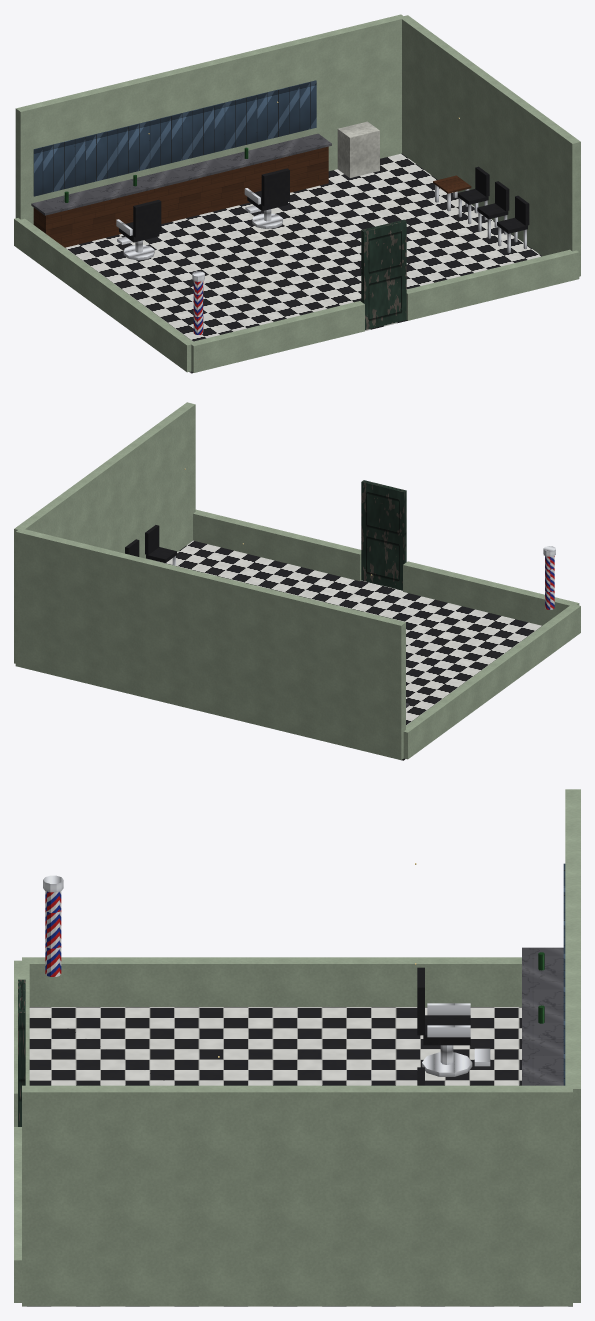
Rendered from Barber.fbx.
3 views of the same model, one above another, from view 1: azimuth 30°, elevation 25°; view 2: azimuth 150°, elevation 25°; view 3: azimuth 270°, elevation 25° (orthographic). The views are drawn at different scales.
Visible parts, largest first — view 1: Barber_Floor, Barber_WallN, Barber_WallE, Barber_Mirror, Barber_Counter, Barber_WallS, Barber_WallW, Barber_Door, Barber_Sink, Barber_Chair0, Barber_Chair1, Barber_WaitChair0 (+4 smaller); view 2: Barber_WallN, Barber_Floor, Barber_WallE, Barber_WallS, Barber_WallW, Barber_Door, Barber_WaitChair0, Barber_Pole; view 3: Barber_WallE, Barber_Floor, Barber_WallW, Barber_WallN, Barber_Counter, Barber_Chair0, Barber_WallS, Barber_Pole, Barber_Door, Barber_Mirror.
Part boxes in pixels (x1=…): Barber_Floor: x1=65, y1=153, x2=541, y2=373; Barber_WallN: x1=15, y1=14, x2=405, y2=224; Barber_WallE: x1=399, y1=15, x2=580, y2=276; Barber_Mirror: x1=33, y1=80, x2=316, y2=196; Barber_Counter: x1=31, y1=133, x2=331, y2=247; Barber_WallS: x1=190, y1=249, x2=579, y2=372; Barber_WallW: x1=14, y1=218, x2=195, y2=372; Barber_Door: x1=361, y1=219, x2=406, y2=329; Barber_Sink: x1=337, y1=121, x2=379, y2=177; Barber_Chair0: x1=116, y1=199, x2=161, y2=260; Barber_Chair1: x1=244, y1=168, x2=289, y2=228; Barber_WaitChair0: x1=497, y1=195, x2=529, y2=252; Barber_WallN: x1=15, y1=529, x2=405, y2=759; Barber_Floor: x1=166, y1=540, x2=541, y2=760; Barber_WallE: x1=14, y1=402, x2=195, y2=663; Barber_WallS: x1=193, y1=509, x2=579, y2=625; Barber_WallW: x1=403, y1=604, x2=580, y2=759; Barber_Door: x1=361, y1=480, x2=406, y2=590; Barber_WaitChair0: x1=145, y1=525, x2=176, y2=565; Barber_Pole: x1=543, y1=546, x2=555, y2=609; Barber_WallE: x1=22, y1=1085, x2=572, y2=1306; Barber_Floor: x1=22, y1=1007, x2=572, y2=1306; Barber_WallW: x1=22, y1=957, x2=521, y2=1006; Barber_WallN: x1=565, y1=789, x2=580, y2=1302; Barber_Counter: x1=522, y1=947, x2=563, y2=1085; Barber_Chair0: x1=417, y1=967, x2=490, y2=1076; Barber_WallS: x1=14, y1=960, x2=29, y2=1302; Barber_Pole: x1=43, y1=875, x2=63, y2=976; Barber_Door: x1=18, y1=979, x2=25, y2=1126; Barber_Mirror: x1=563, y1=863, x2=565, y2=1085.
Size of the model in its own units: 9.2 by 3.05 by 7.2.
